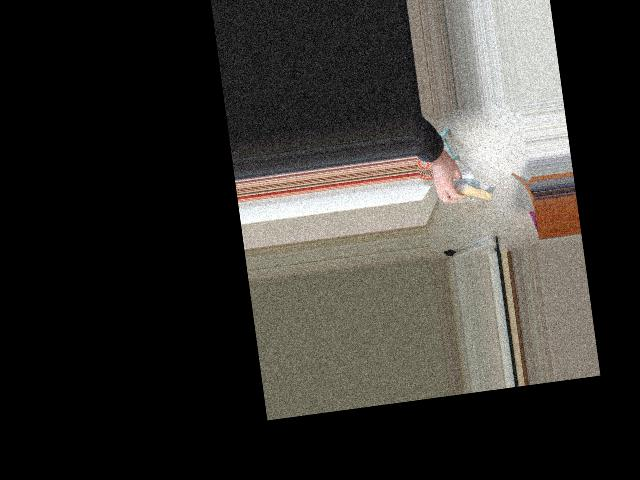cheese: (434, 172, 499, 207)
